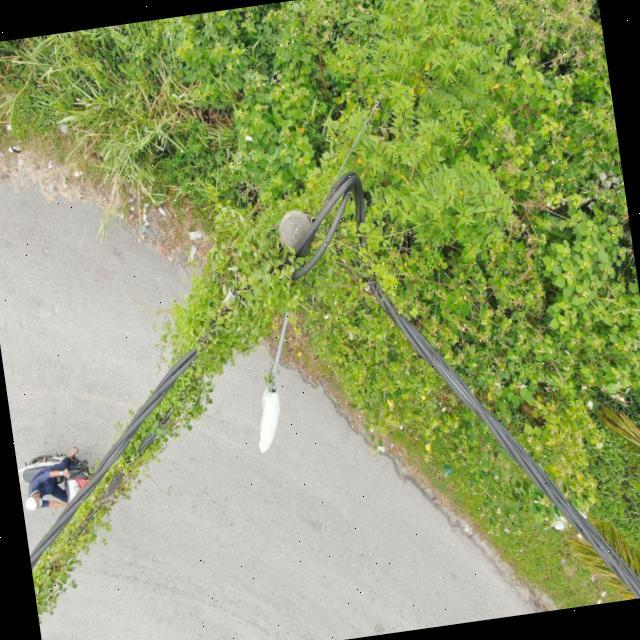critical vegetation: (0, 200, 371, 619)
